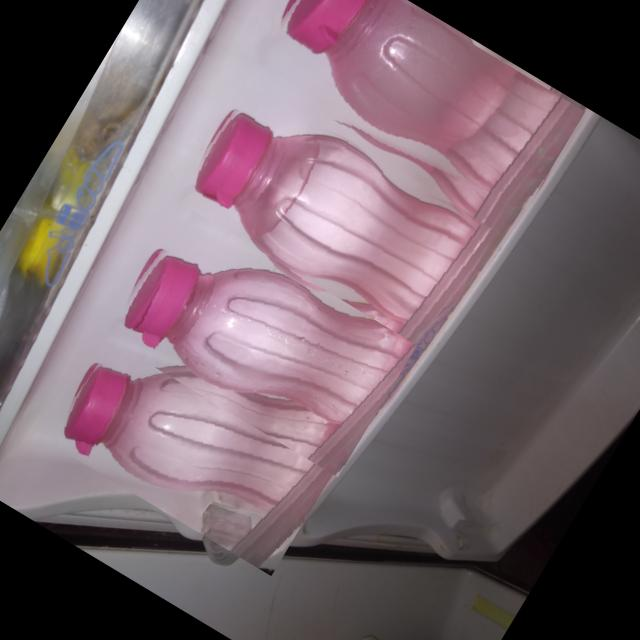plastic bottle: (98, 178, 430, 476), (46, 277, 370, 576), (172, 73, 500, 350), (238, 0, 585, 238)
